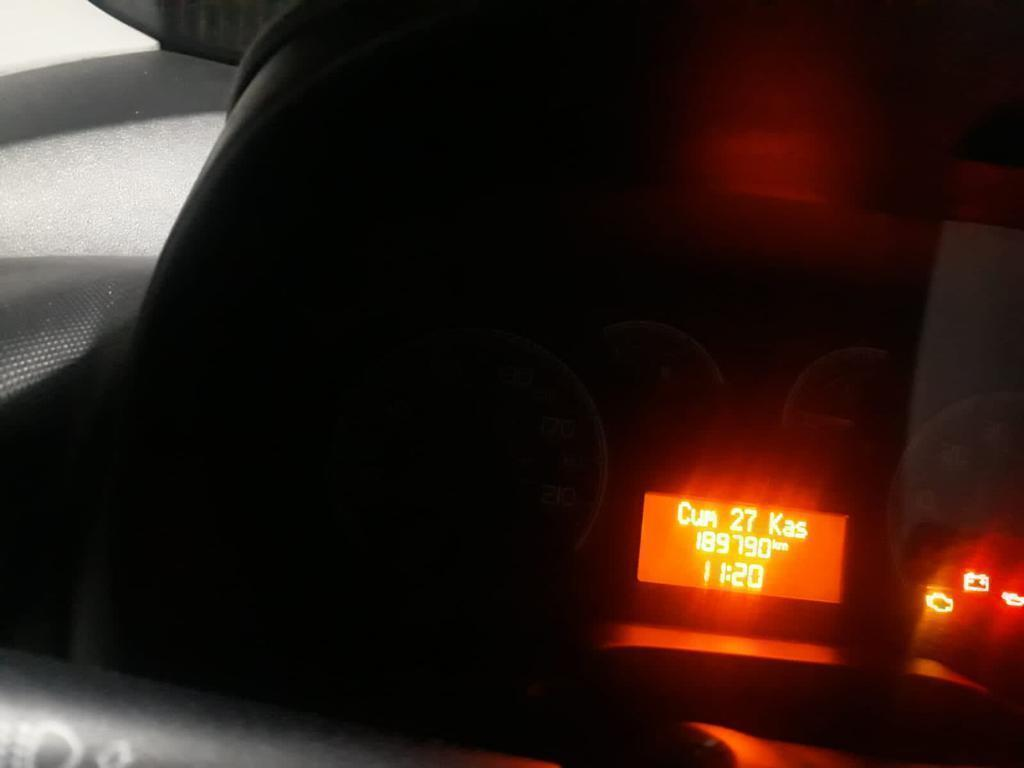0: (746, 563, 764, 589), (756, 537, 771, 558)
1: (703, 559, 711, 582), (719, 561, 726, 583), (695, 531, 701, 550)
2: (730, 562, 747, 587), (728, 507, 744, 531)
7: (743, 508, 758, 531), (731, 534, 743, 555)
8: (701, 530, 715, 552)
9: (715, 532, 730, 553), (744, 535, 757, 557)
X: (677, 501, 692, 525), (768, 511, 783, 535), (690, 507, 705, 526), (782, 519, 795, 537), (795, 521, 808, 538), (704, 510, 716, 528), (725, 564, 732, 581), (778, 541, 788, 552), (771, 538, 777, 551)
odometer: (633, 487, 852, 606)
